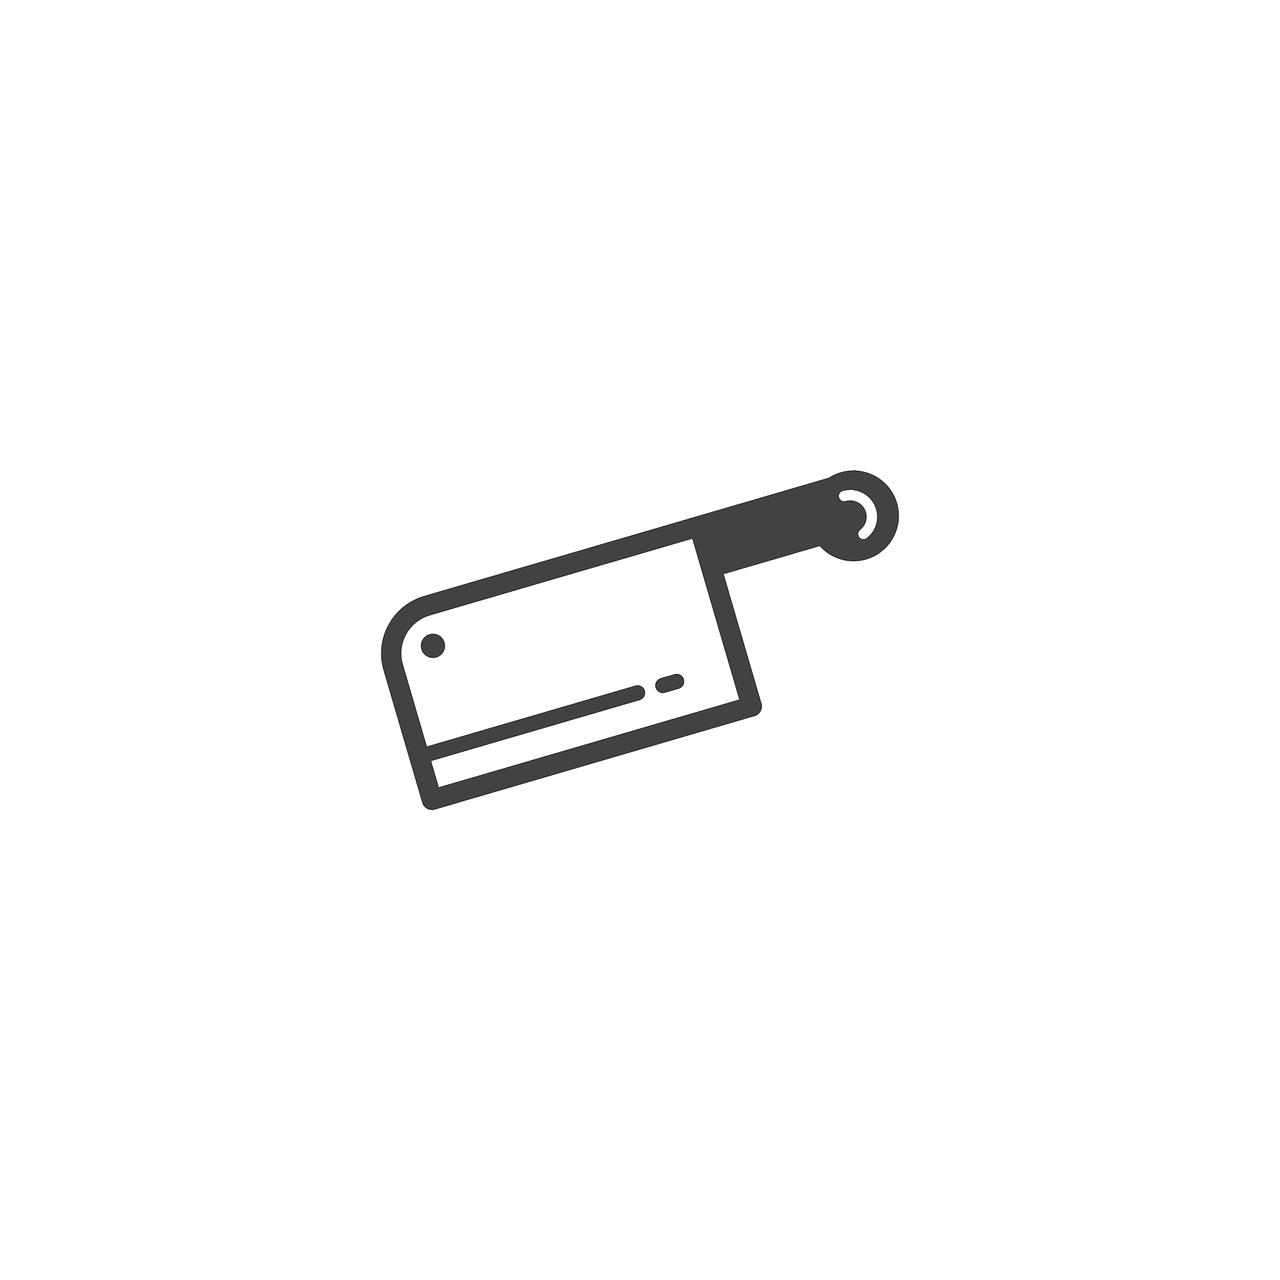knife: (349, 461, 897, 813)
